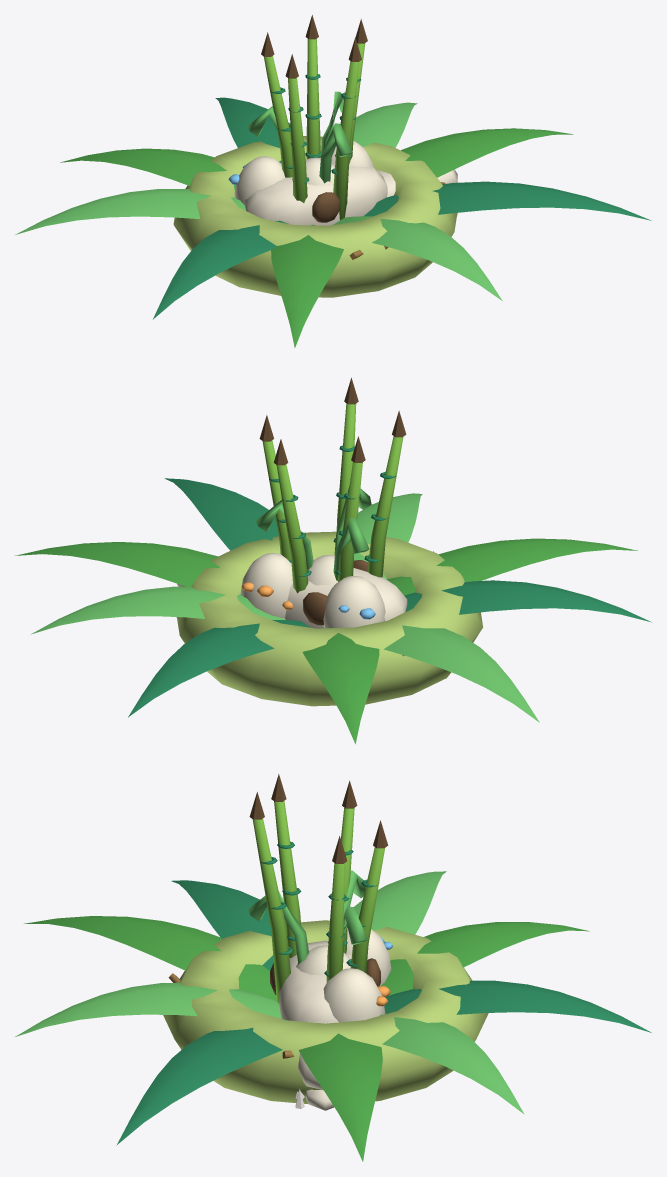
The model's file is vale-dos-dinos-props.glb.
The picture shows the model from 3 angles, top to bottom: view 1: azimuth 30°, elevation 25°; view 2: azimuth 150°, elevation 25°; view 3: azimuth 270°, elevation 25°; orthographic projection. The views are drawn at different scales.
Visible parts, largest first — view 1: samambaia-gigante, ninho, cavalinha, cranio-fossil; view 2: samambaia-gigante, ninho, cavalinha, cranio-fossil, ovo-dino; view 3: samambaia-gigante, ninho, cavalinha, cranio-fossil, ovo-dino.
Boxes of the visible parts, left/top/right/bottom form: samambaia-gigante: left=15, top=91, right=651, bottom=347; ninho: left=173, top=136, right=457, bottom=297; cavalinha: left=261, top=15, right=367, bottom=219; cranio-fossil: left=244, top=164, right=458, bottom=225; samambaia-gigante: left=15, top=478, right=651, bottom=744; ninho: left=177, top=531, right=483, bottom=706; cavalinha: left=259, top=377, right=406, bottom=593; cranio-fossil: left=176, top=559, right=407, bottom=628; ovo-dino: left=307, top=555, right=356, bottom=585; samambaia-gigante: left=15, top=870, right=651, bottom=1161; ninho: left=163, top=920, right=488, bottom=1103; cavalinha: left=249, top=774, right=388, bottom=1003; cranio-fossil: left=270, top=940, right=380, bottom=1110; ovo-dino: left=296, top=946, right=350, bottom=975.
Bounding box in the file's own units: 5.35 × 2.27 × 4.97.
